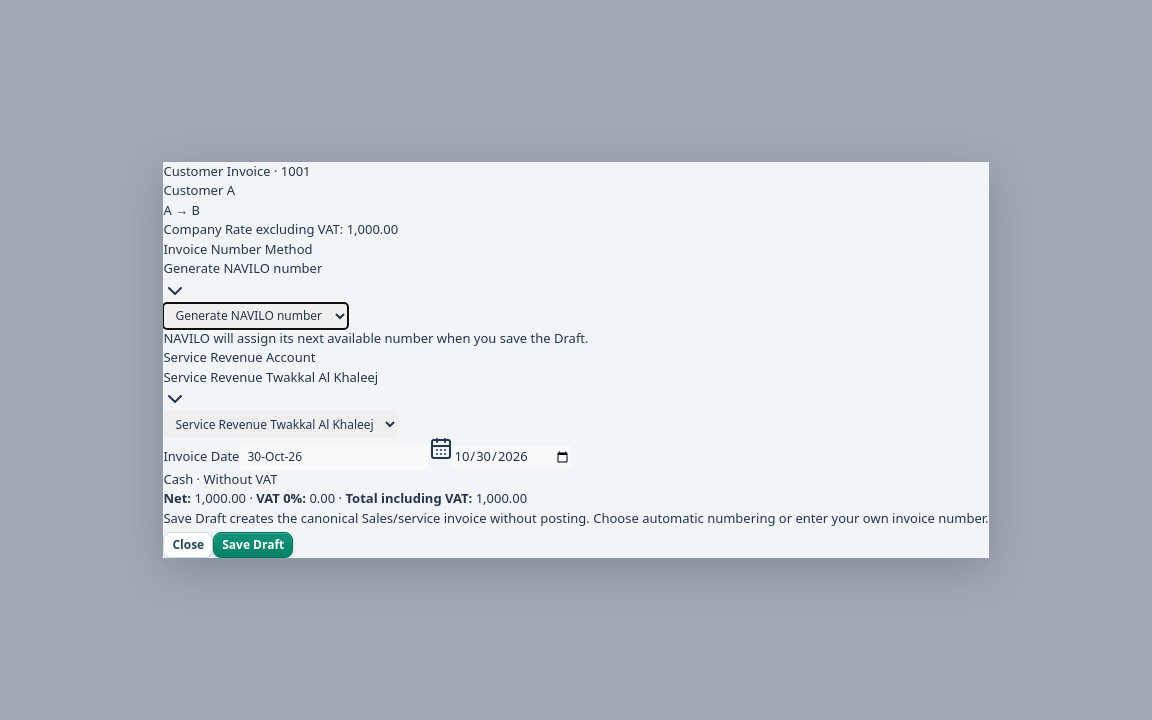
Test: Transport invoice posting in all company contexts › allows Cash auto numbering without VAT configuration and saves a no-VAT Draft
Expected: the dropdown labelled "Service Revenue Account" shows "Service Revenue Twakkal Al Khaleej", [163,411,398,437]
Select "Generate NAVILO number" in the dropdown labelled "Invoice Number Method" at [256, 316], box [163,303,348,329]
Click the button "Save Draft".
click(253, 545)  # box [213,532,293,558]
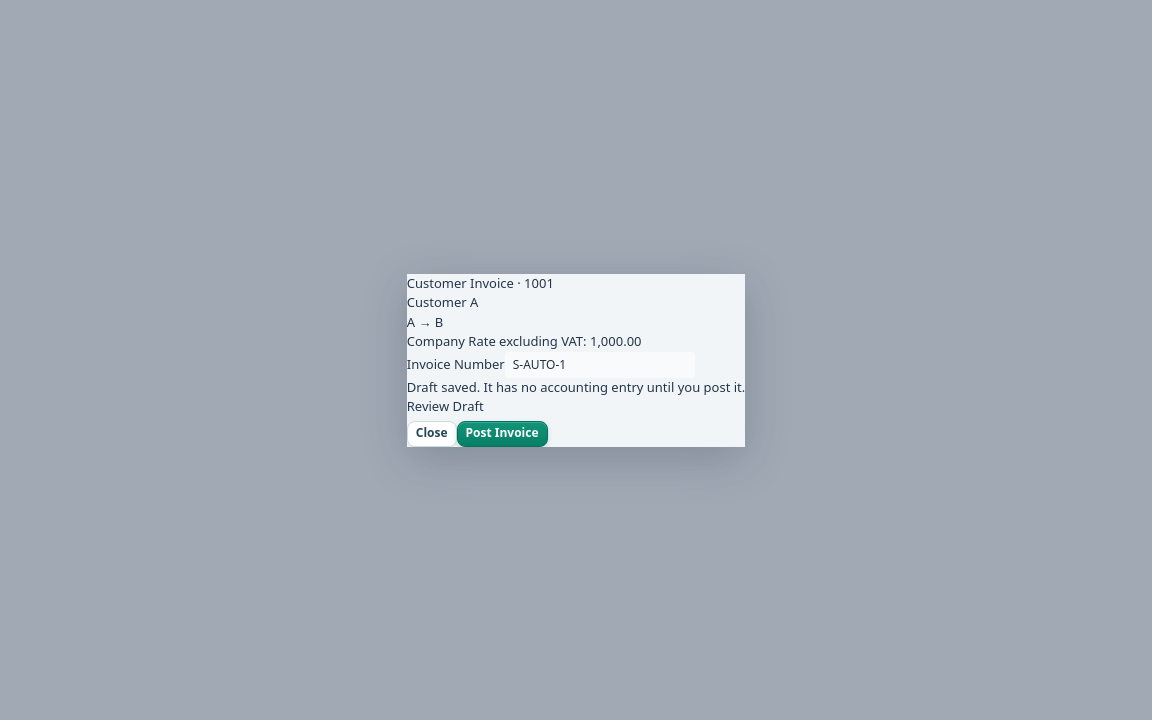
Result: the text "Draft saved. It has no accounting entry until you post it. Review Draft" is shown at [407,378,745,416]
